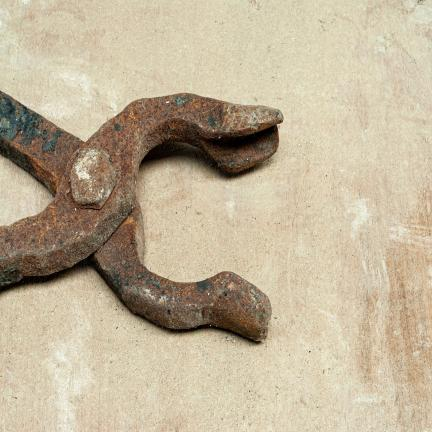karat: (0, 92, 283, 340)
